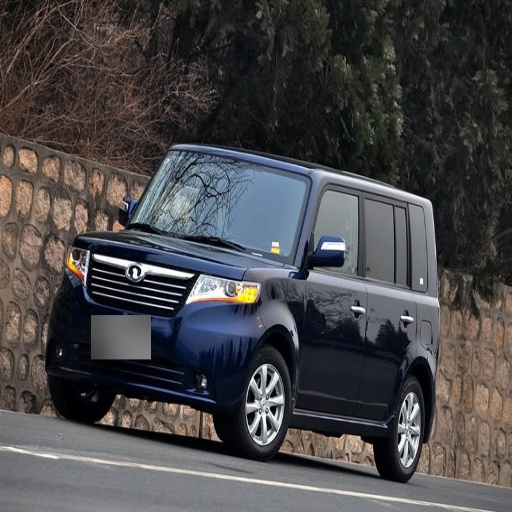back_left_door: (357, 190, 424, 418)
front_bumper: (53, 243, 251, 407)
front_glass: (152, 148, 308, 257)
front_left_door: (297, 180, 368, 414)
